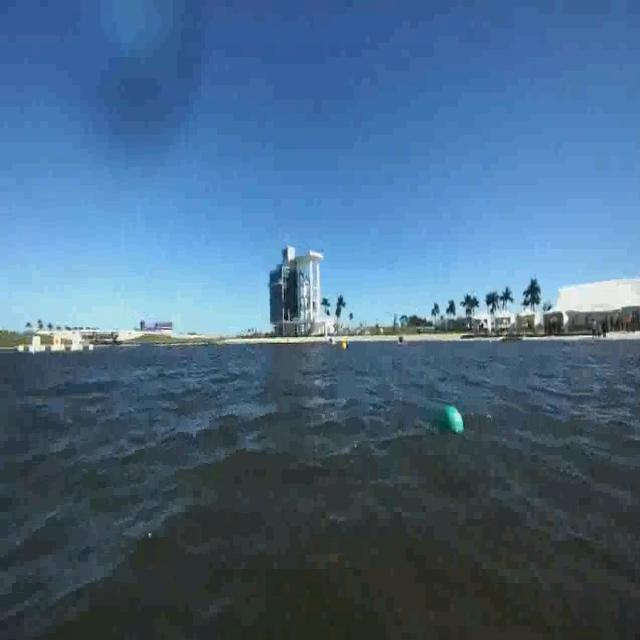green-buoy: (436, 406, 463, 434)
yellow-buoy: (341, 346, 352, 354)
